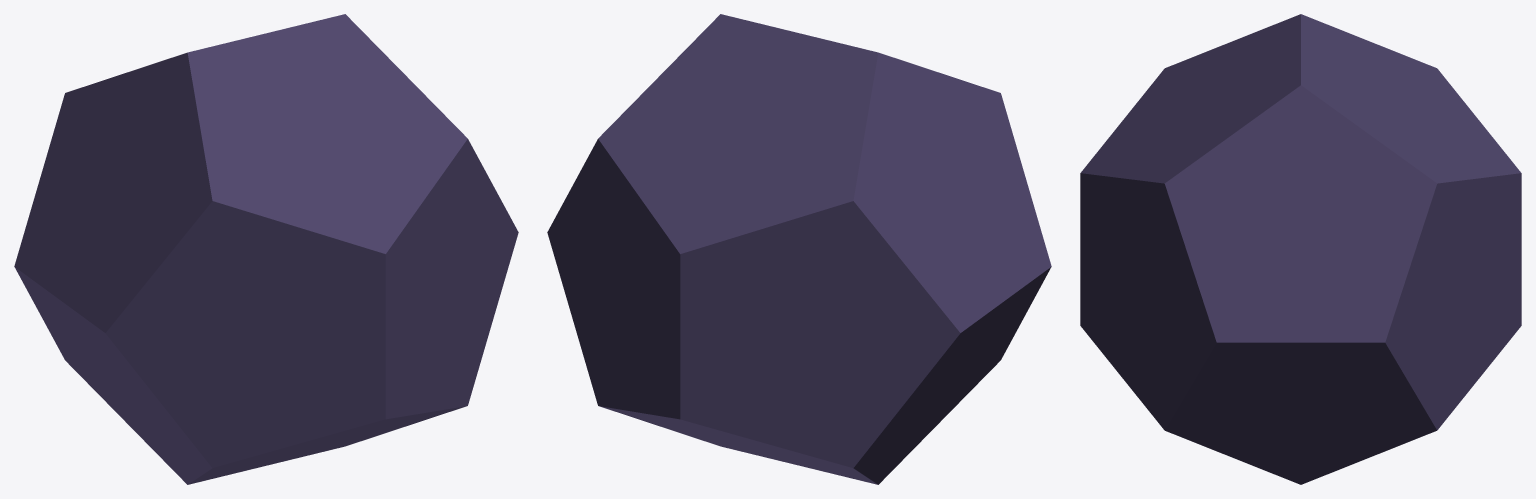
Rendered from rock.glb.
The picture shows the model from 3 angles, left to right: view 1: azimuth 30°, elevation 25°; view 2: azimuth 150°, elevation 25°; view 3: azimuth 270°, elevation 25°; orthographic projection. The views are drawn at different scales.
Parts seen in each view (by area): view 1: Rock; view 2: Rock; view 3: Rock.
Part boxes in pixels (bbox=[...]): Rock: bbox=[14, 14, 518, 484]; Rock: bbox=[547, 14, 1051, 484]; Rock: bbox=[1080, 14, 1521, 484].
Bounding box in the file's own units: 1.12 × 1.12 × 1.12.
